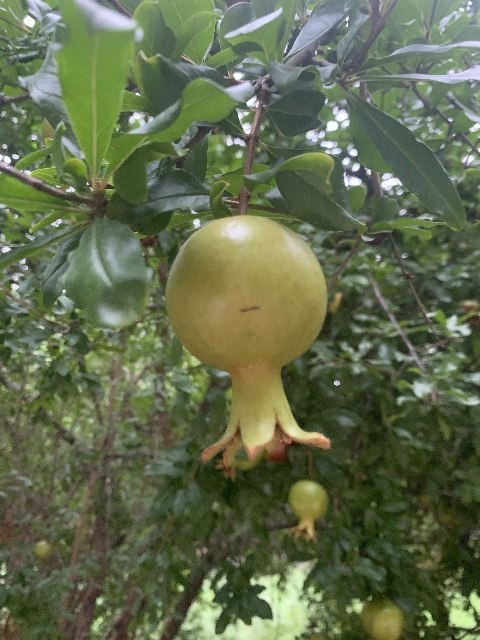mid-growth: (165, 214, 330, 470), (285, 479, 329, 542)
